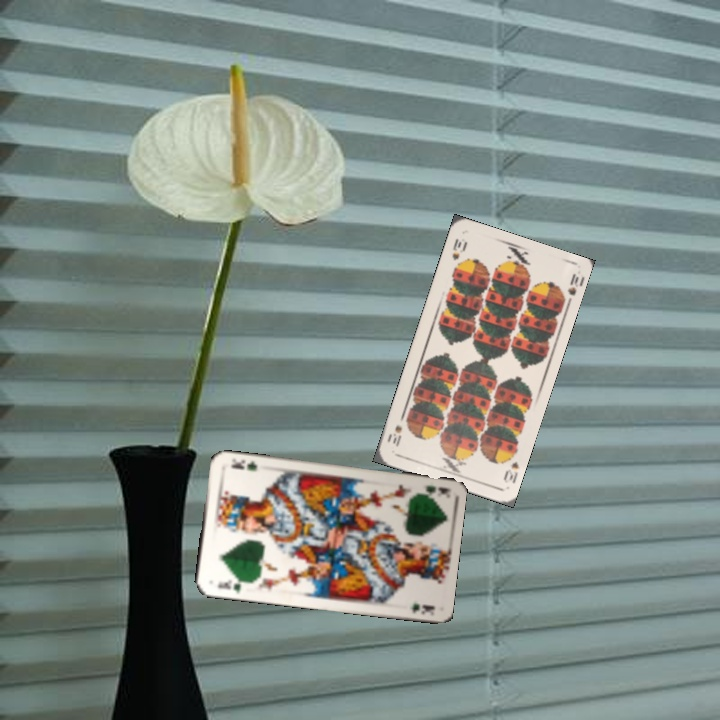GK: (213, 575, 250, 596), (421, 481, 451, 499)
S10: (499, 448, 522, 486), (448, 235, 469, 263)
